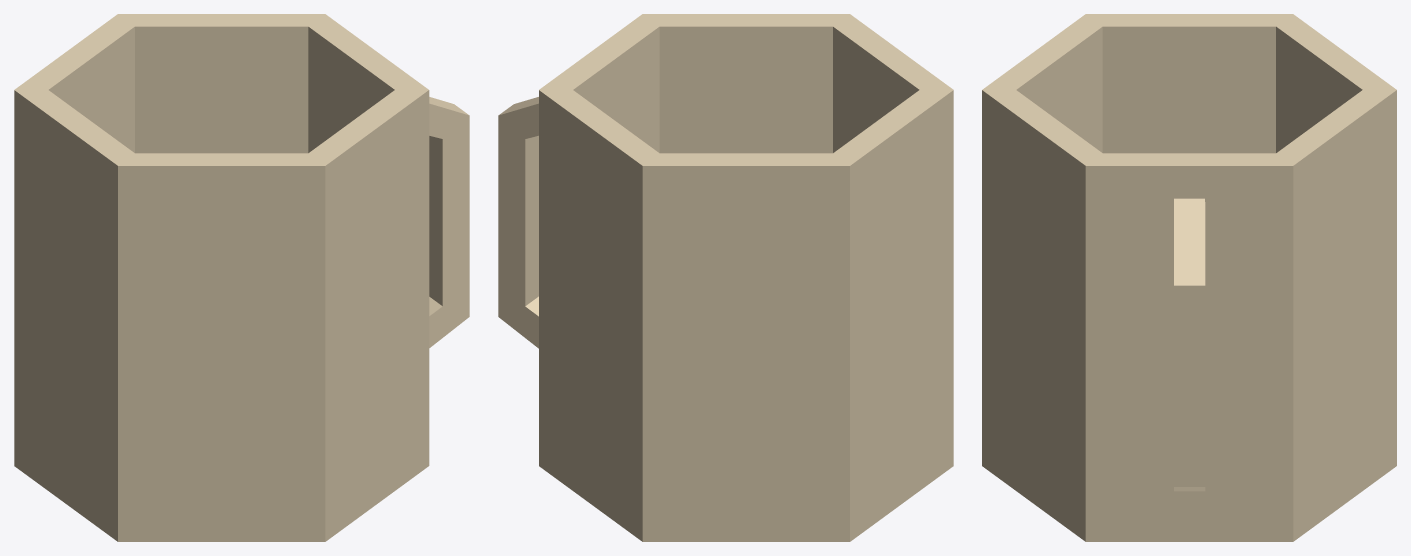
File: cup1.fbx
3 renders of one model, left to right at view 1: azimuth 30°, elevation 25°; view 2: azimuth 150°, elevation 25°; view 3: azimuth 270°, elevation 25°, orthographic.
Visible parts, largest first — view 1: cup1; view 2: cup1; view 3: cup1.
Boxes of the visible parts, <box> form: cup1: <box>14,14,469,541</box>; cup1: <box>498,14,953,541</box>; cup1: <box>982,14,1396,541</box>.
Size of the model in its own units: 0.11 by 0.0999 by 0.0999.
